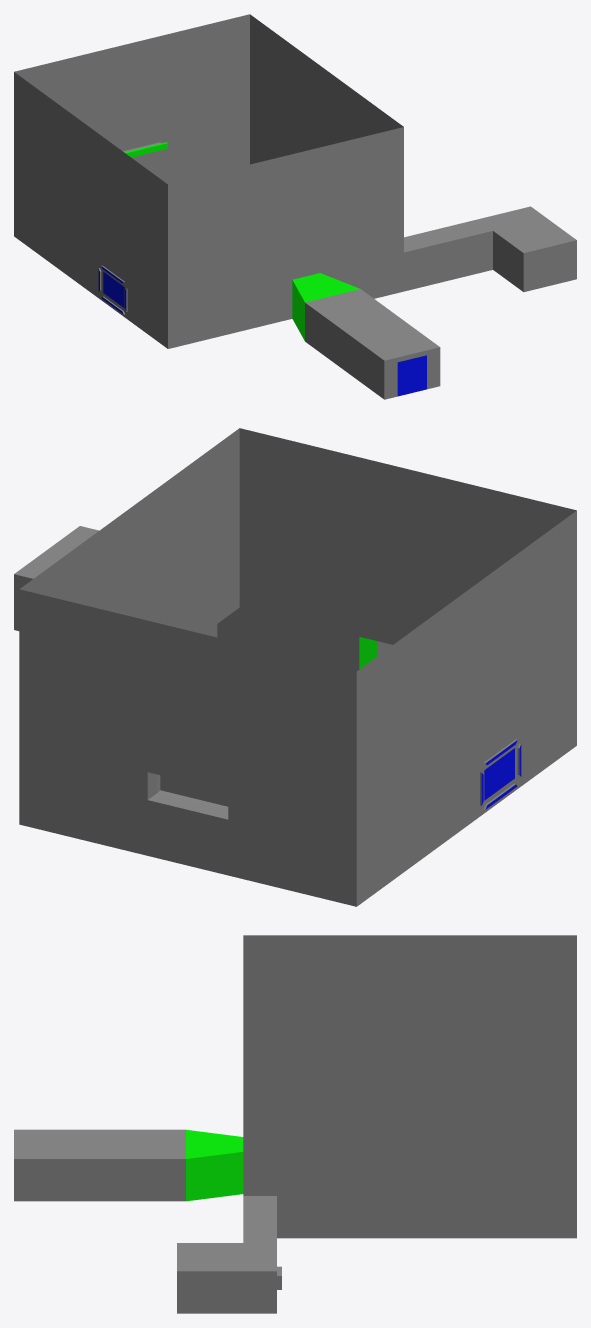
Rendered from TutorialLevel_Outdoors.fbx.
3 renders of one model, top to bottom at view 1: azimuth 30°, elevation 25°; view 2: azimuth 150°, elevation 25°; view 3: azimuth 270°, elevation 25°, orthographic. The views are drawn at different scales.
Parts seen in each view (by area): view 1: TutorialLevel_Outdoors; view 2: TutorialLevel_Outdoors; view 3: TutorialLevel_Outdoors.
Boxes of the visible parts, box(x1,y1,x2,y2) form: TutorialLevel_Outdoors: box(14, 14, 576, 399); TutorialLevel_Outdoors: box(14, 428, 576, 906); TutorialLevel_Outdoors: box(14, 935, 576, 1313).
Size of the model in its own units: 2848 by 1180 by 3379.
